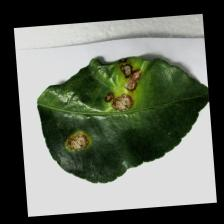canker: (50, 59, 152, 158)
